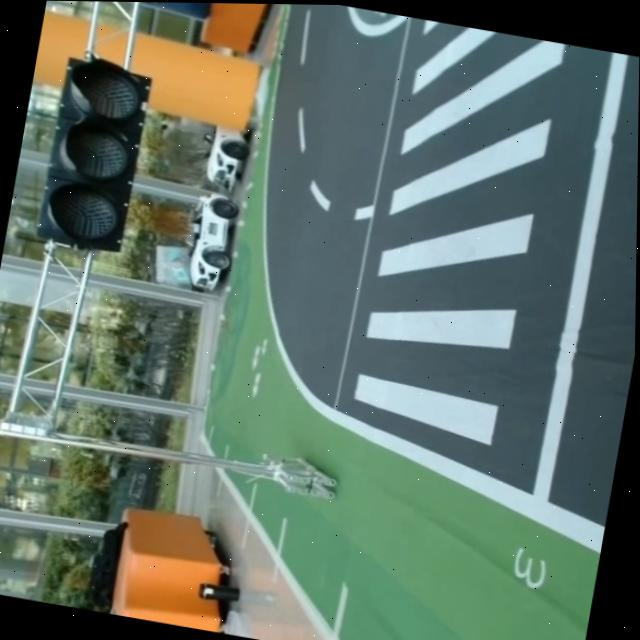traffic-light: (33, 55, 153, 262)
